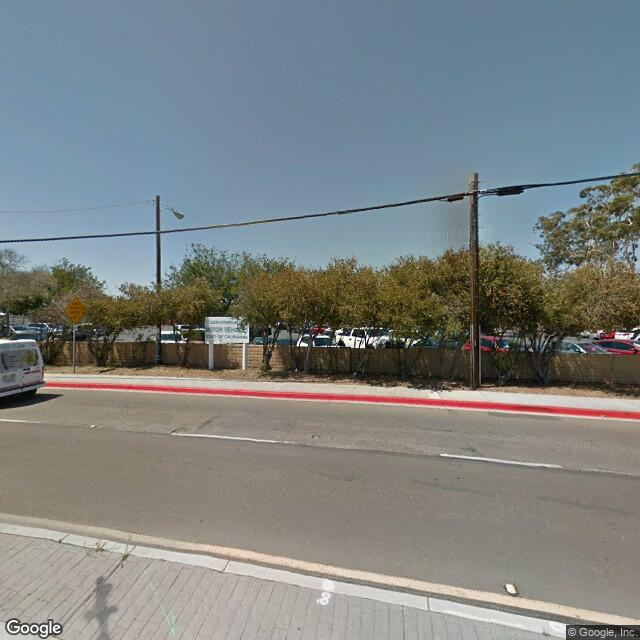litter: (504, 583, 518, 593)
